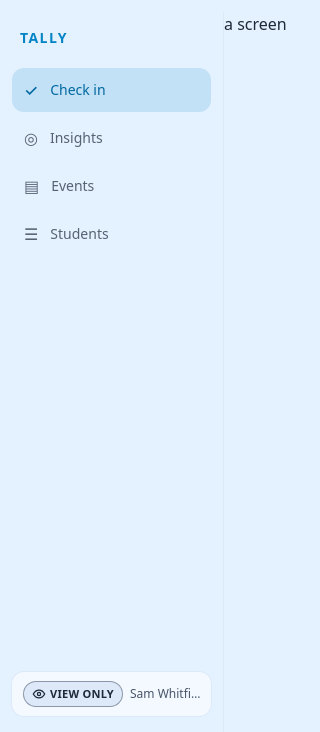
Test: the account menu › offers a viewer Team to read, and neither Settings nor a kiosk to pair
Step 1. Click the button "Sam Whitfield View only" → (112, 694), box left=12, top=672, right=211, bottom=716
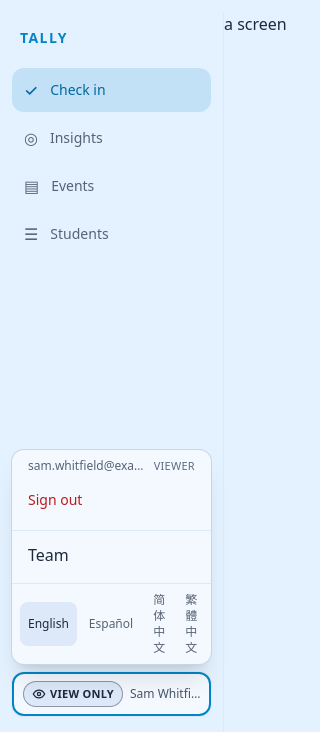
Result: the menu item "Team" is shown at left=28, top=544, right=69, bottom=566
